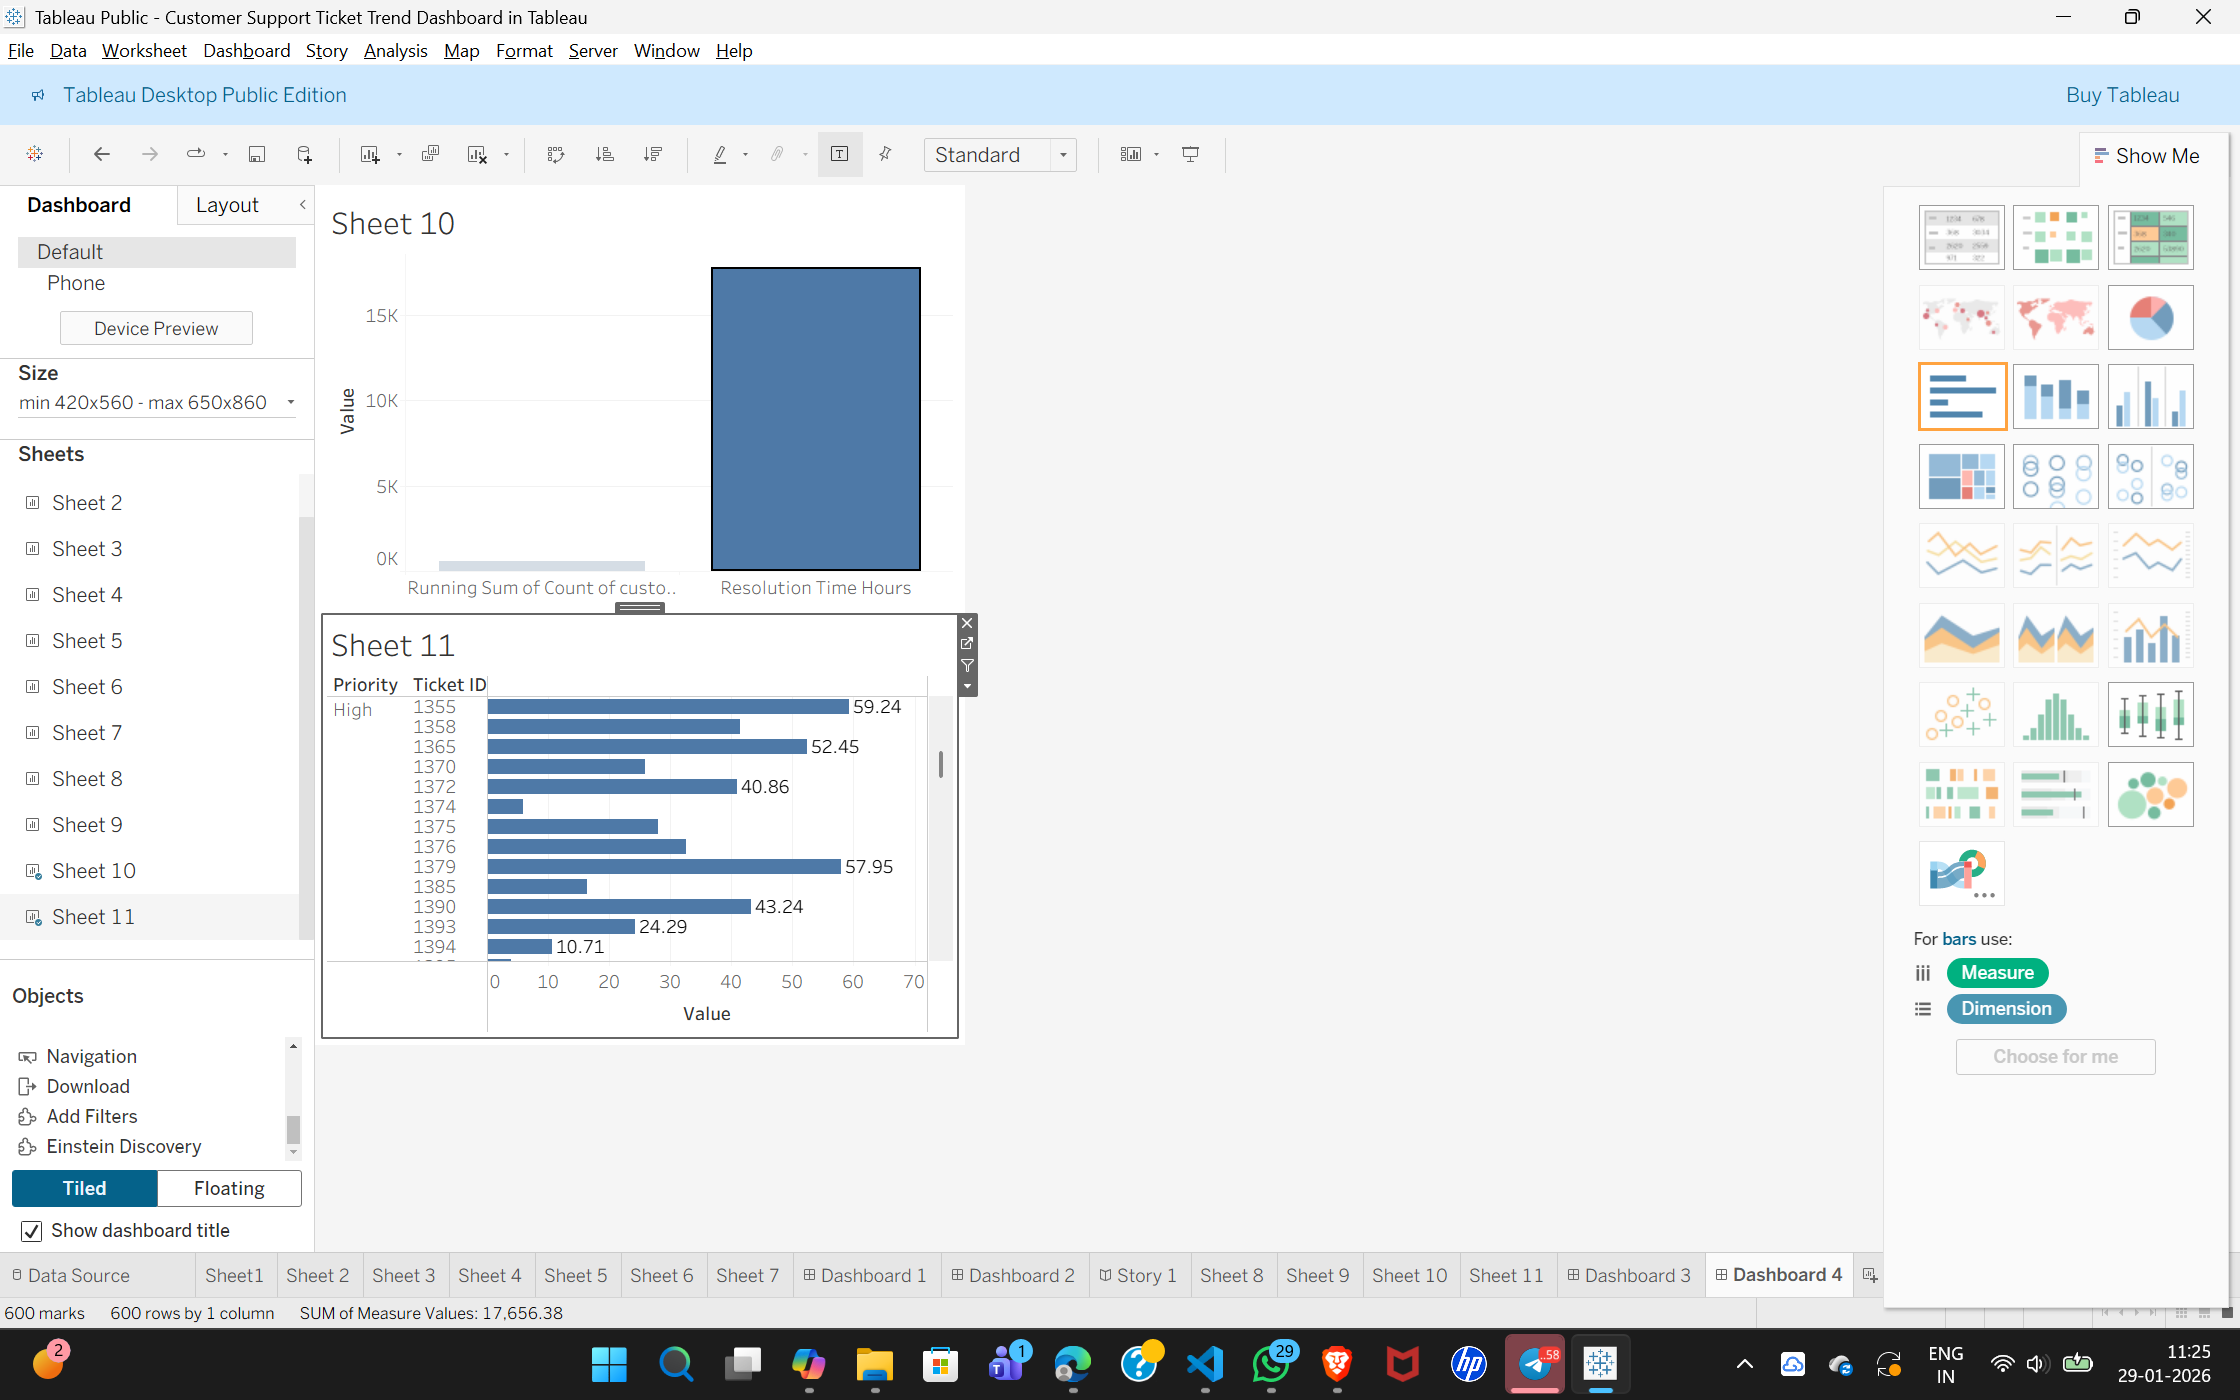

This screenshot's page, from the dashboard's own definition file:
{"tool":"tableau","page":{"name":"Dashboard 4","canvas":[650,860],"ordinal":3},"visuals":[{"type":"worksheet","title":"Sheet 10","mark":"Automatic","box":[8,8,634,422]},{"type":"worksheet","title":"Sheet 11","mark":"Automatic","rows":["Priority","Ticket_ID"],"box":[8,430,634,422]}]}

Visuals, with their boxes on the page's 650x860 design canvas (x1, y1, x2, y2). These are canvas units, not pixel positions in the 2240x1400 screenshot, which may show the page scaled, cropped or inside an application window:
"Sheet 10" worksheet: <region>8, 8, 642, 430</region>
"Sheet 11" worksheet: <region>8, 430, 642, 852</region>
